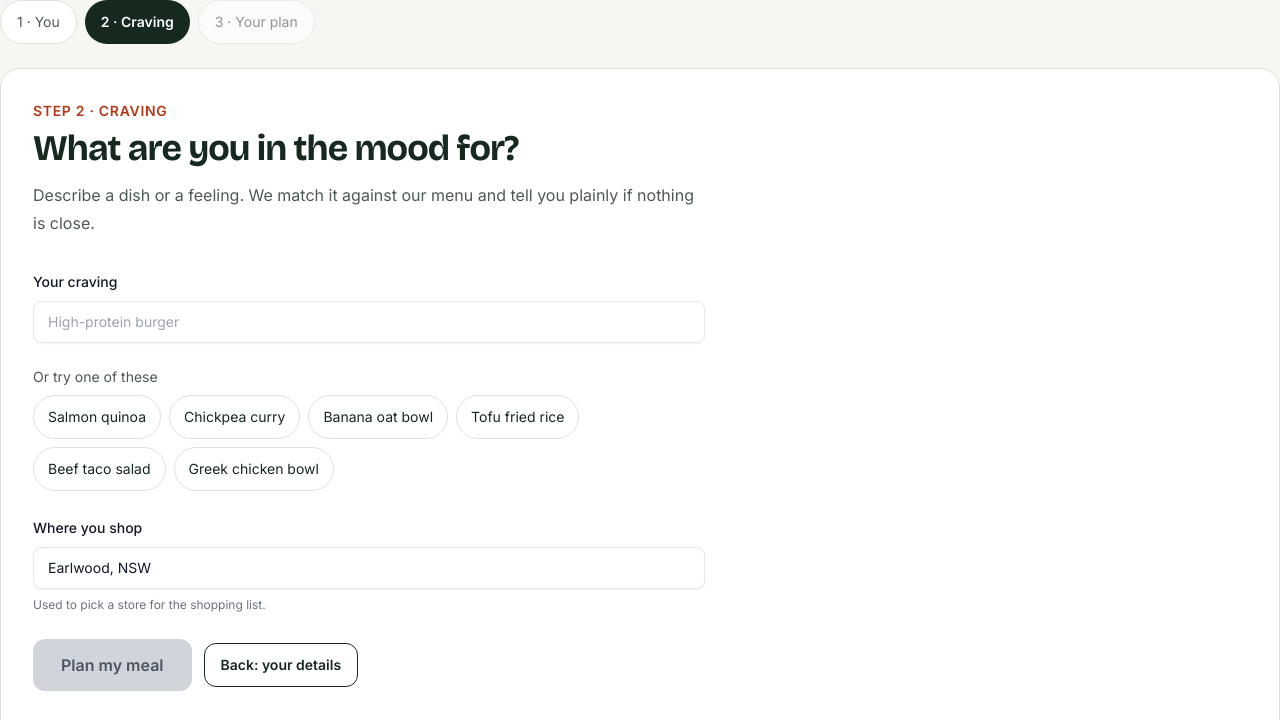
Shopping list › lists items by aisle with prices, the total and the estimate note
In the field labelled "Your craving": {"x": 369, "y": 322} [33,301,705,343], type "chicken fried rice"
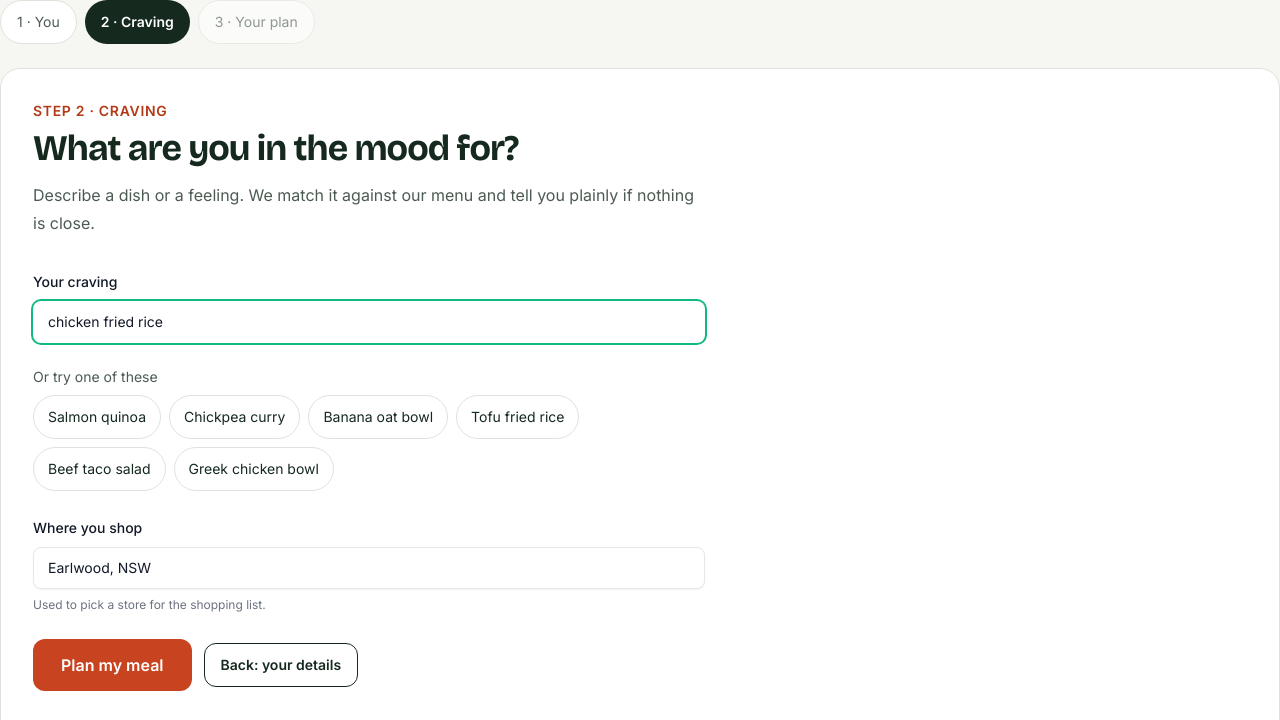
Click the button "Plan my meal": {"x": 112, "y": 665} [33,639,192,691]
(page scrolled)
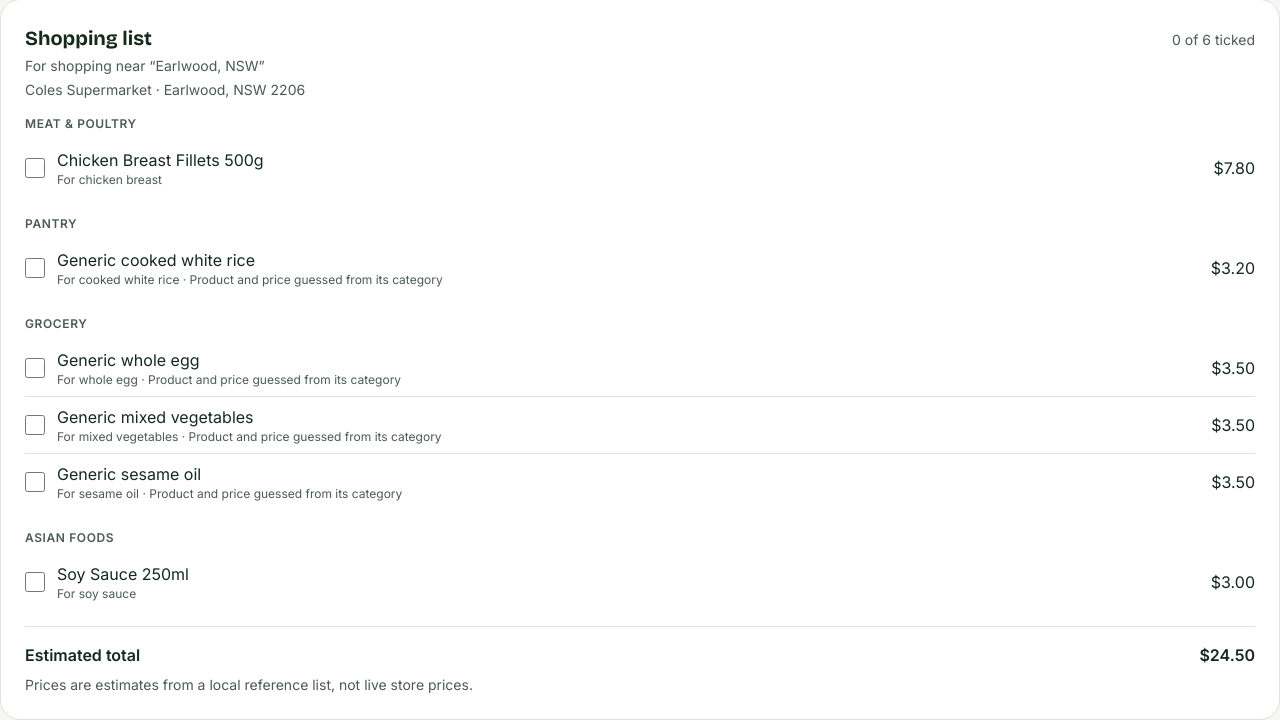
Expected: the text "For shopping near “Earlwood, NSW”" is shown, [25,57,265,74]
Expected: the text "Coles Supermarket · Earlwood, NSW 2206" is shown, [25,81,305,98]
Expected: the text "Chicken Breast Fillets 500g" is shown, [57,150,264,170]
